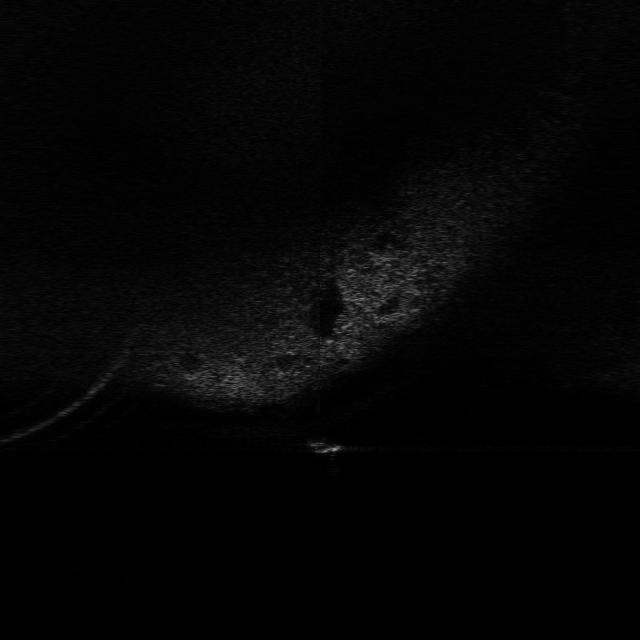cube: (301, 433, 347, 458)
